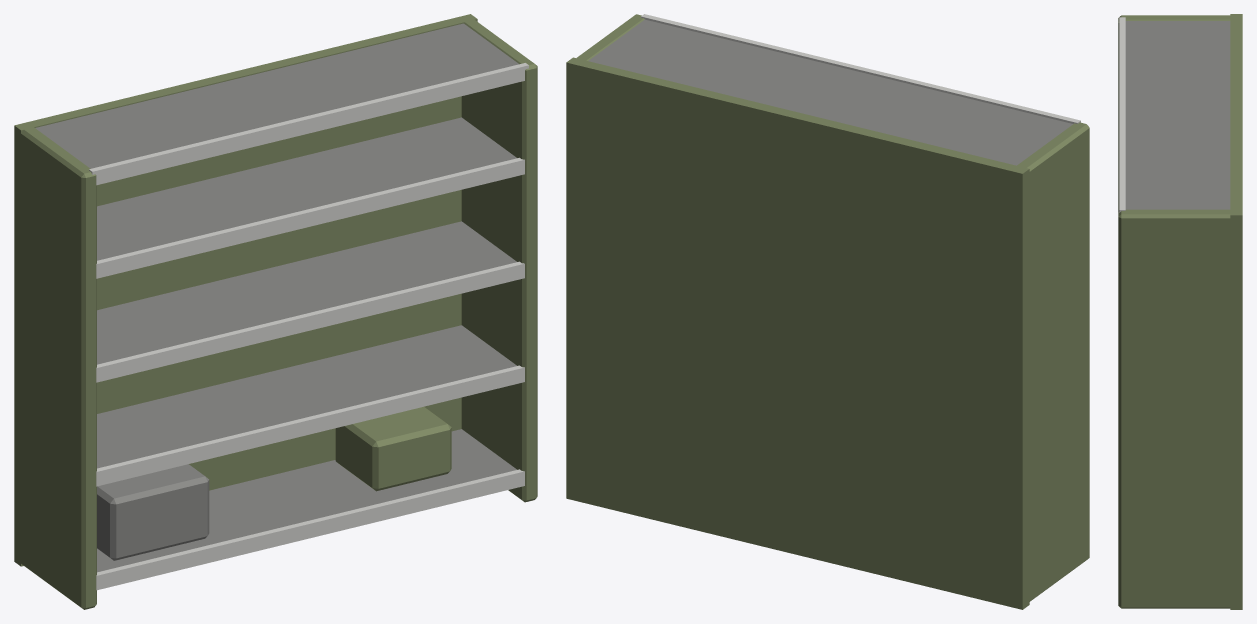
File: lt_shelf_bk.glb
3 renders of one model, left to right at view 1: azimuth 30°, elevation 25°; view 2: azimuth 150°, elevation 25°; view 3: azimuth 270°, elevation 25°, orthographic. The views are drawn at different scales.
Parts seen in each view (by area): view 1: lt_shelf_bk; view 2: lt_shelf_bk; view 3: lt_shelf_bk.
Boxes of the visible parts, x1,y1,x2,y2 form: lt_shelf_bk: [14, 14, 537, 609]; lt_shelf_bk: [566, 14, 1089, 609]; lt_shelf_bk: [1118, 14, 1242, 609].
Bounding box in the file's own units: 2.3 × 2.11 × 0.6.
